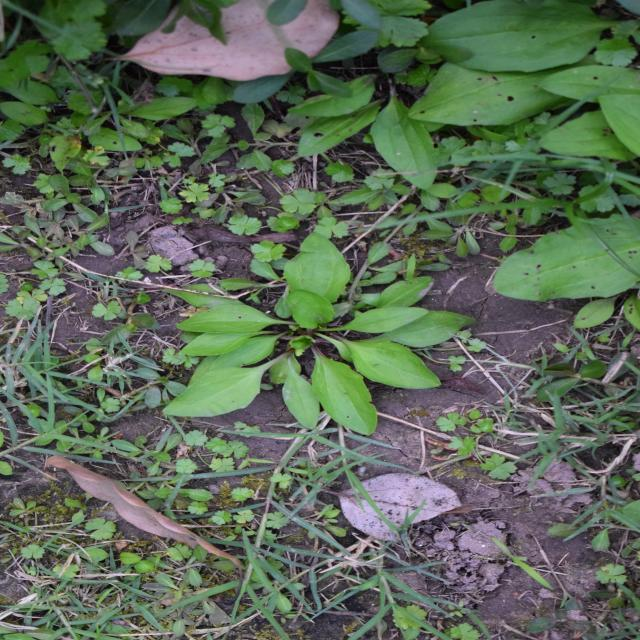plantain: (208, 176, 402, 472)
